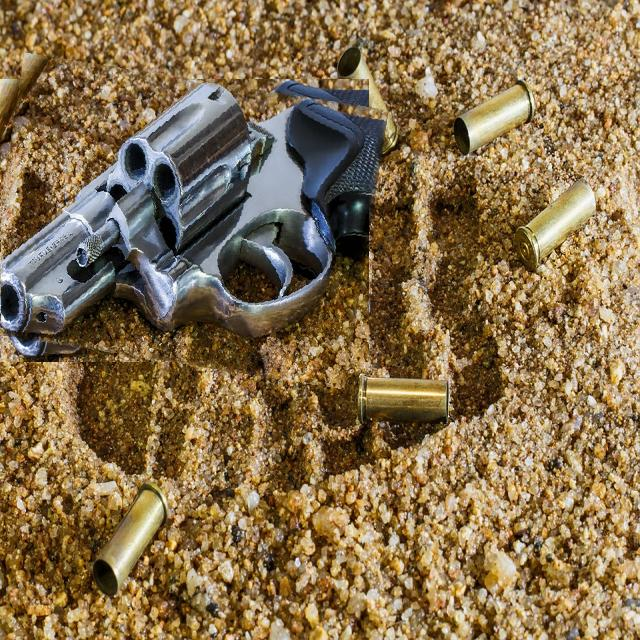gun: (0, 65, 379, 375)
